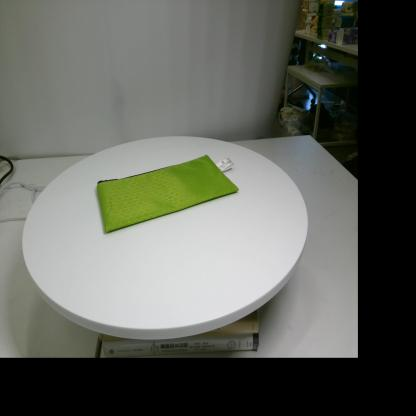Stationery: (97, 155, 239, 232)
